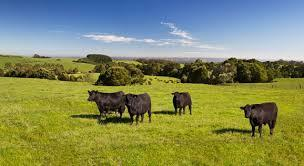cow: (241, 103, 278, 136), (88, 90, 126, 121), (124, 92, 153, 124), (171, 92, 196, 116)
